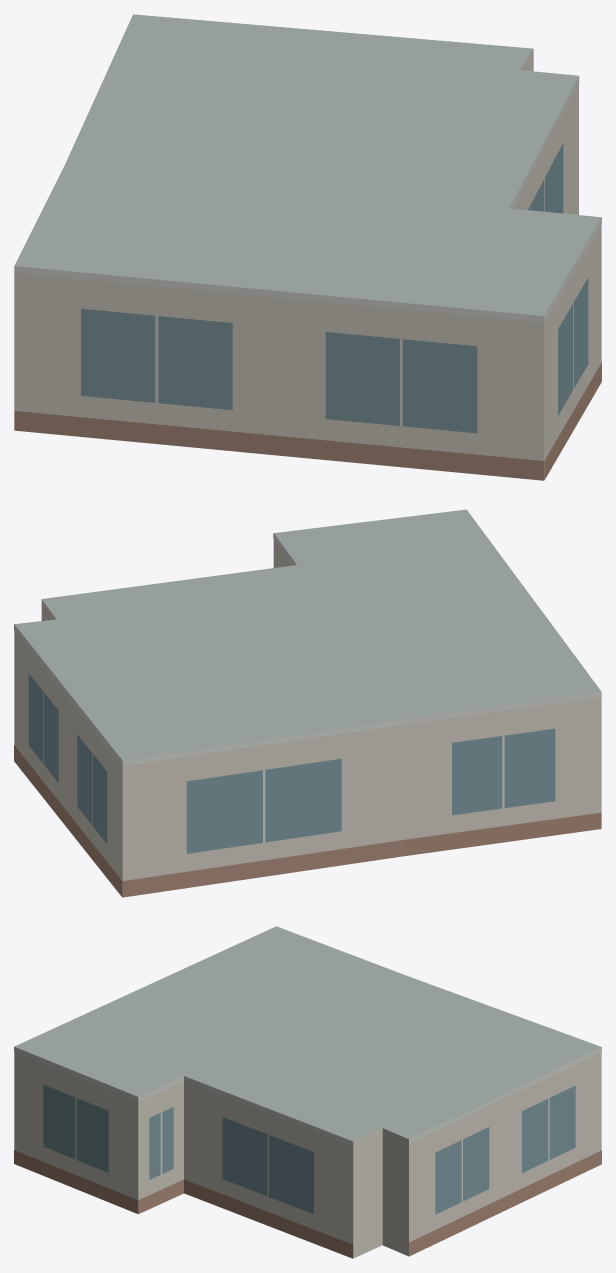
File: survey-upis-32723912.glb
The picture shows the model from 3 angles, top to bottom: view 1: azimuth 30°, elevation 25°; view 2: azimuth 150°, elevation 25°; view 3: azimuth 270°, elevation 25°; orthographic projection. The views are drawn at different scales.
Visible parts, largest first — view 1: survey-upis-32723912.tmp; view 2: survey-upis-32723912.tmp; view 3: survey-upis-32723912.tmp.
Part boxes in pixels (left/top/right/bottom): survey-upis-32723912.tmp: left=14, top=14, right=601, bottom=480; survey-upis-32723912.tmp: left=14, top=509, right=601, bottom=897; survey-upis-32723912.tmp: left=14, top=926, right=601, bottom=1258.
Bounding box in the file's own units: 12.01 × 3.05 × 13.86.
